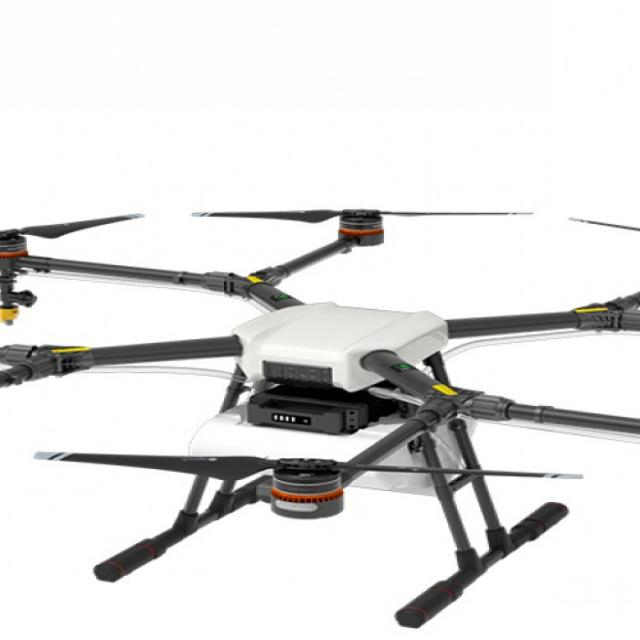drone: (0, 200, 640, 606)
